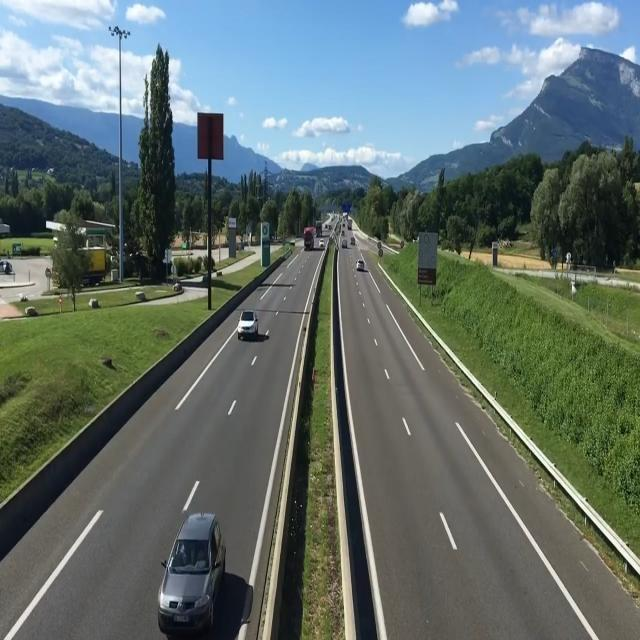Car: (158, 510, 229, 633), (236, 309, 262, 340), (355, 259, 366, 270), (342, 238, 348, 249), (319, 238, 325, 248)
Truck: (303, 226, 315, 251)
